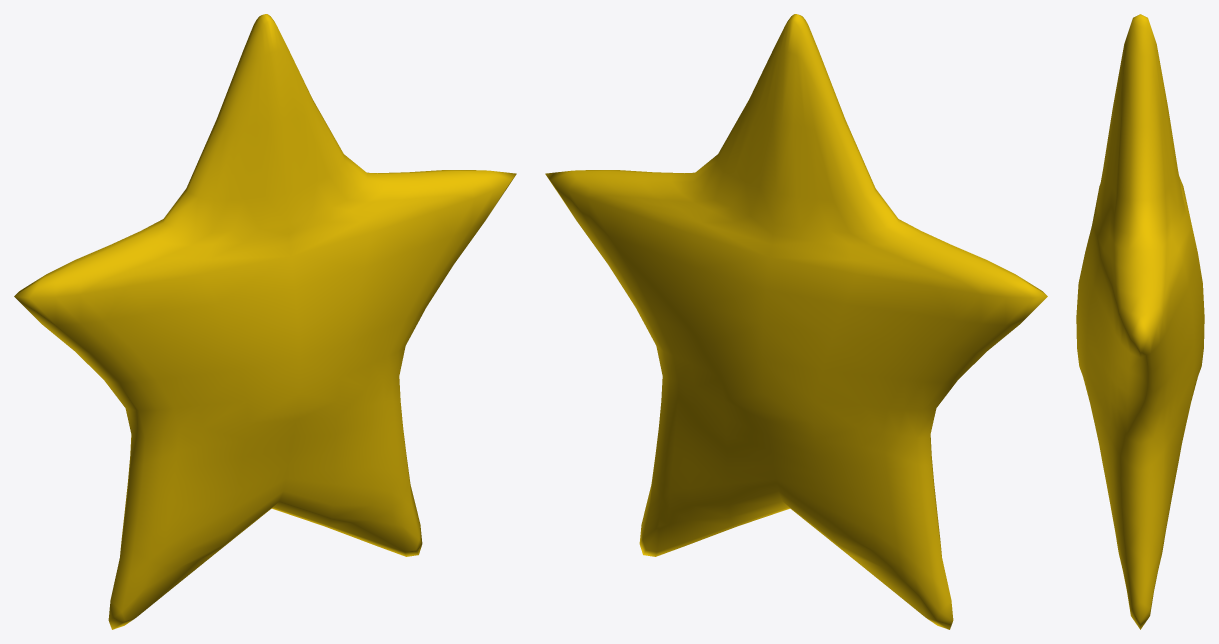
The model's file is Star.fbx.
3 renders of one model, left to right at view 1: azimuth 30°, elevation 25°; view 2: azimuth 150°, elevation 25°; view 3: azimuth 270°, elevation 25°, orthographic. The views are drawn at different scales.
Visible parts, largest first — view 1: Star; view 2: Star; view 3: Star.
Part boxes in pixels (x1=…): Star: x1=14, y1=14, x2=516, y2=629; Star: x1=545, y1=14, x2=1047, y2=629; Star: x1=1076, y1=14, x2=1204, y2=629.
Bounding box in the file's own units: 15.25 × 16.76 × 3.58.
